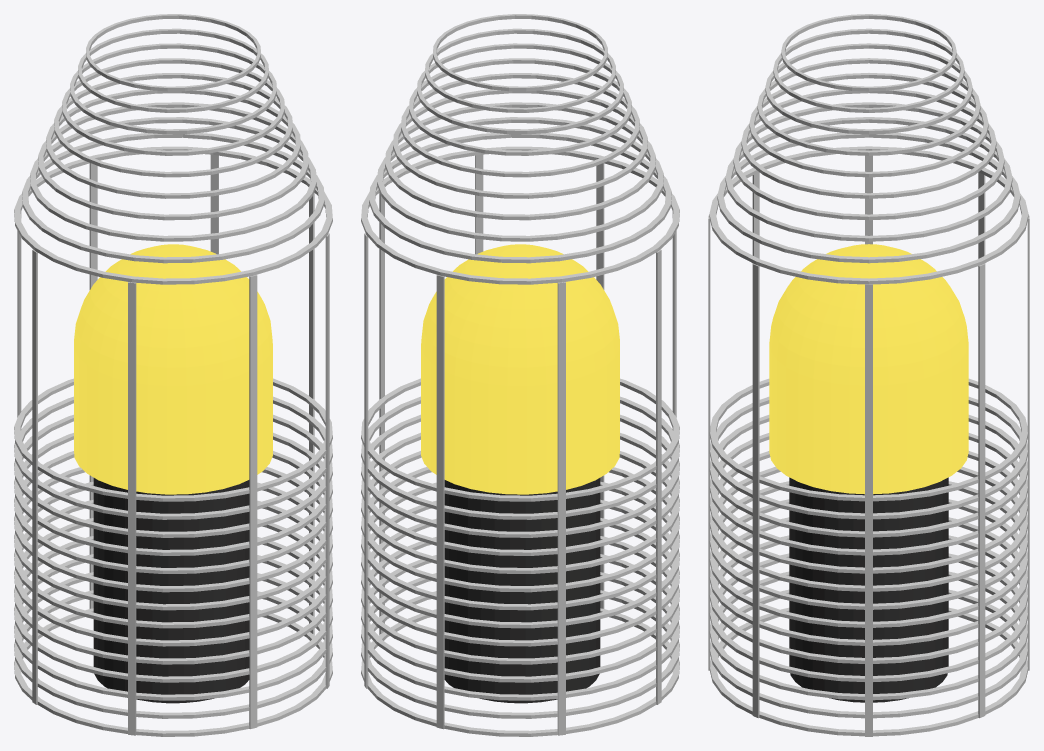
File: lens_room_light.glb
3 renders of one model, left to right at view 1: azimuth 30°, elevation 25°; view 2: azimuth 150°, elevation 25°; view 3: azimuth 270°, elevation 25°, orthographic.
Parts seen in each view (by area): view 1: Cylinder, Cylinder.001, Sphere, Circle.014, Circle.015, Cube.001, Cube.007, Circle.016, Circle.013, Circle.017, Circle.012, Circle.011 (+23 smaller); view 2: Cylinder, Cylinder.001, Sphere, Circle.014, Circle.015, Cube, Cube.004, Circle.016, Circle.013, Circle.017, Circle.012, Circle.011 (+23 smaller); view 3: Cylinder, Cylinder.001, Sphere, Circle.014, Circle.015, Circle.016, Cube.002, Cube.005, Cube.006, Circle.013, Circle.017, Circle.012 (+21 smaller).
Boxes of the visible parts, x1,y1,x2,y2 form: Cylinder: (93,478,249,703); Cylinder.001: (74,345,272,494); Sphere: (74,244,272,385); Circle.014: (14,146,332,284); Circle.015: (22,133,324,263); Cube.001: (249,275,257,729); Cube.007: (128,282,136,735); Circle.016: (30,117,316,241); Circle.013: (14,378,332,501); Circle.017: (38,102,308,220); Circle.012: (14,396,332,519); Circle.011: (14,414,332,537); Cylinder: (444,478,600,703); Cylinder.001: (421,345,619,494); Sphere: (421,244,619,385); Circle.014: (361,146,679,284); Circle.015: (369,133,671,263); Cube: (436,275,444,729); Cube.004: (557,282,565,735); Circle.016: (377,117,663,241); Circle.013: (361,378,679,501); Circle.017: (385,102,655,220); Circle.012: (361,396,679,519); Circle.011: (361,414,679,537); Cylinder: (789,477,948,702); Cylinder.001: (769,345,968,494); Sphere: (769,244,968,385); Circle.014: (709,146,1028,284); Circle.015: (717,132,1020,263); Circle.016: (725,117,1012,241); Cube.002: (865,284,872,736); Cube.005: (752,263,759,718); Cube.006: (978,263,985,718); Circle.013: (709,378,1028,501); Circle.017: (733,102,1004,220); Circle.012: (709,396,1028,519).
Bounding box in the file's own units: 4.03 × 8.55 × 4.03.
